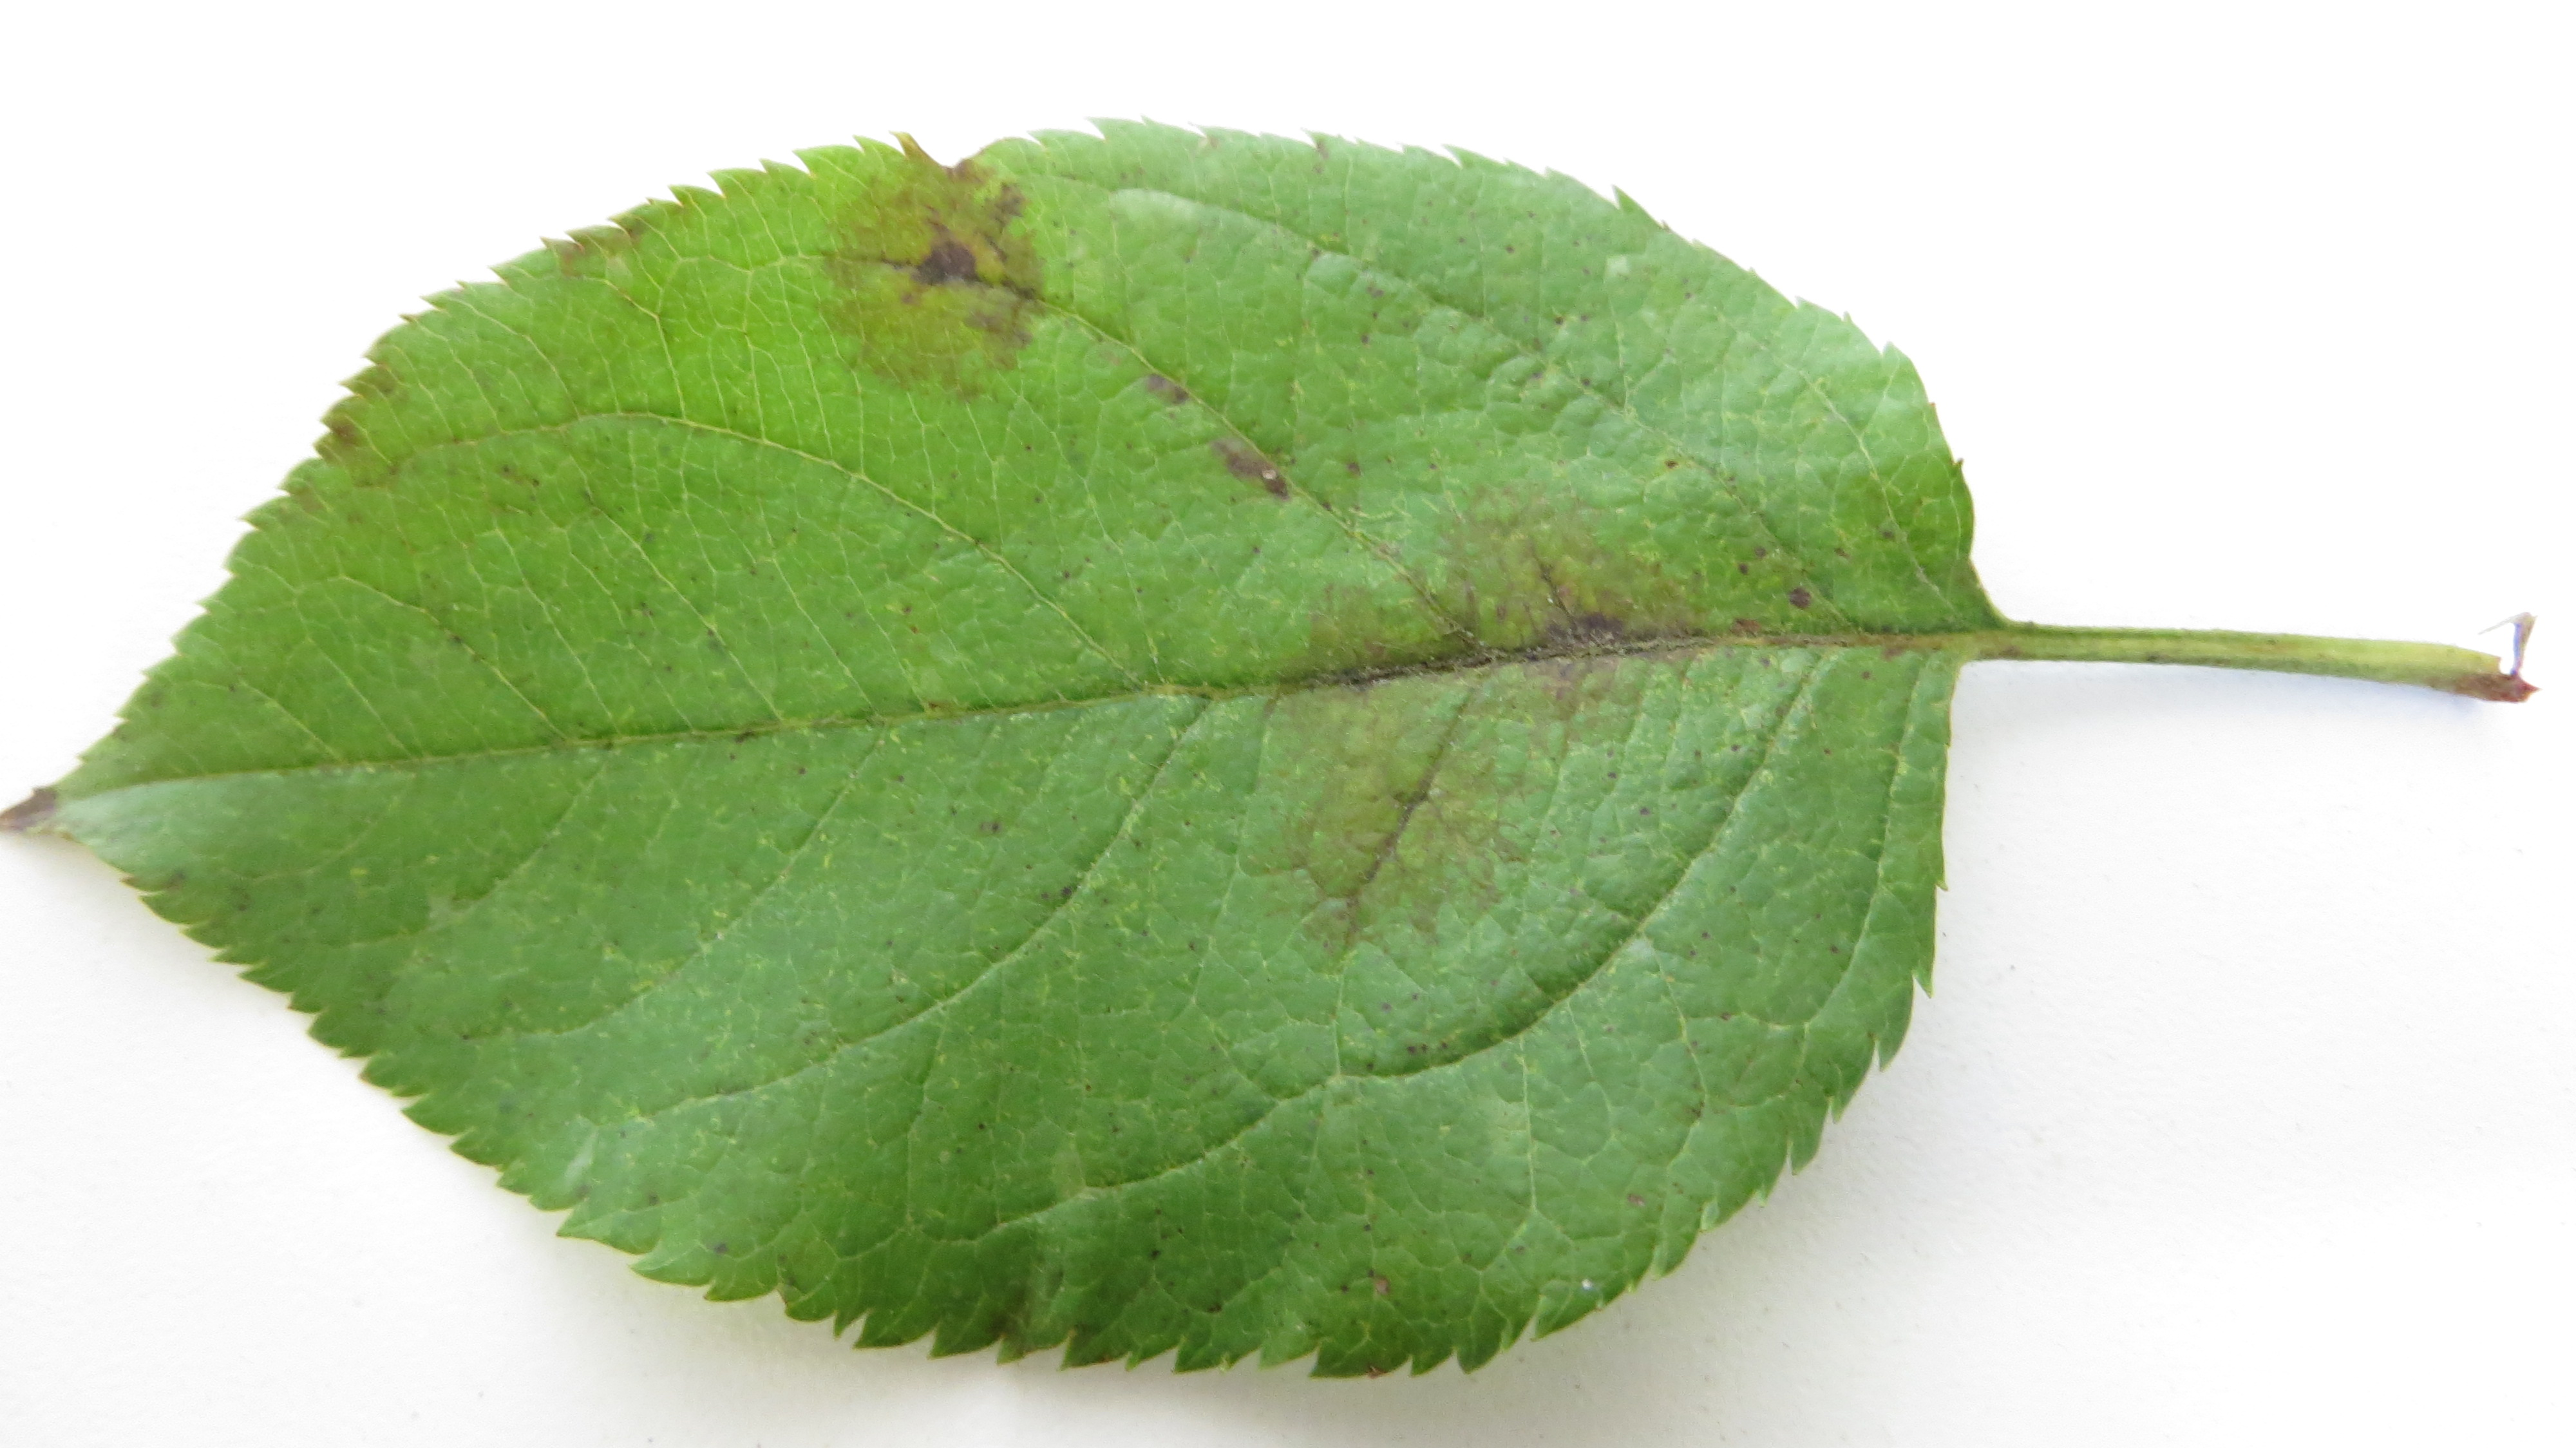sarna: (1253, 561, 1552, 954), (1445, 469, 1727, 712), (817, 145, 1054, 398), (1194, 409, 1315, 506)
